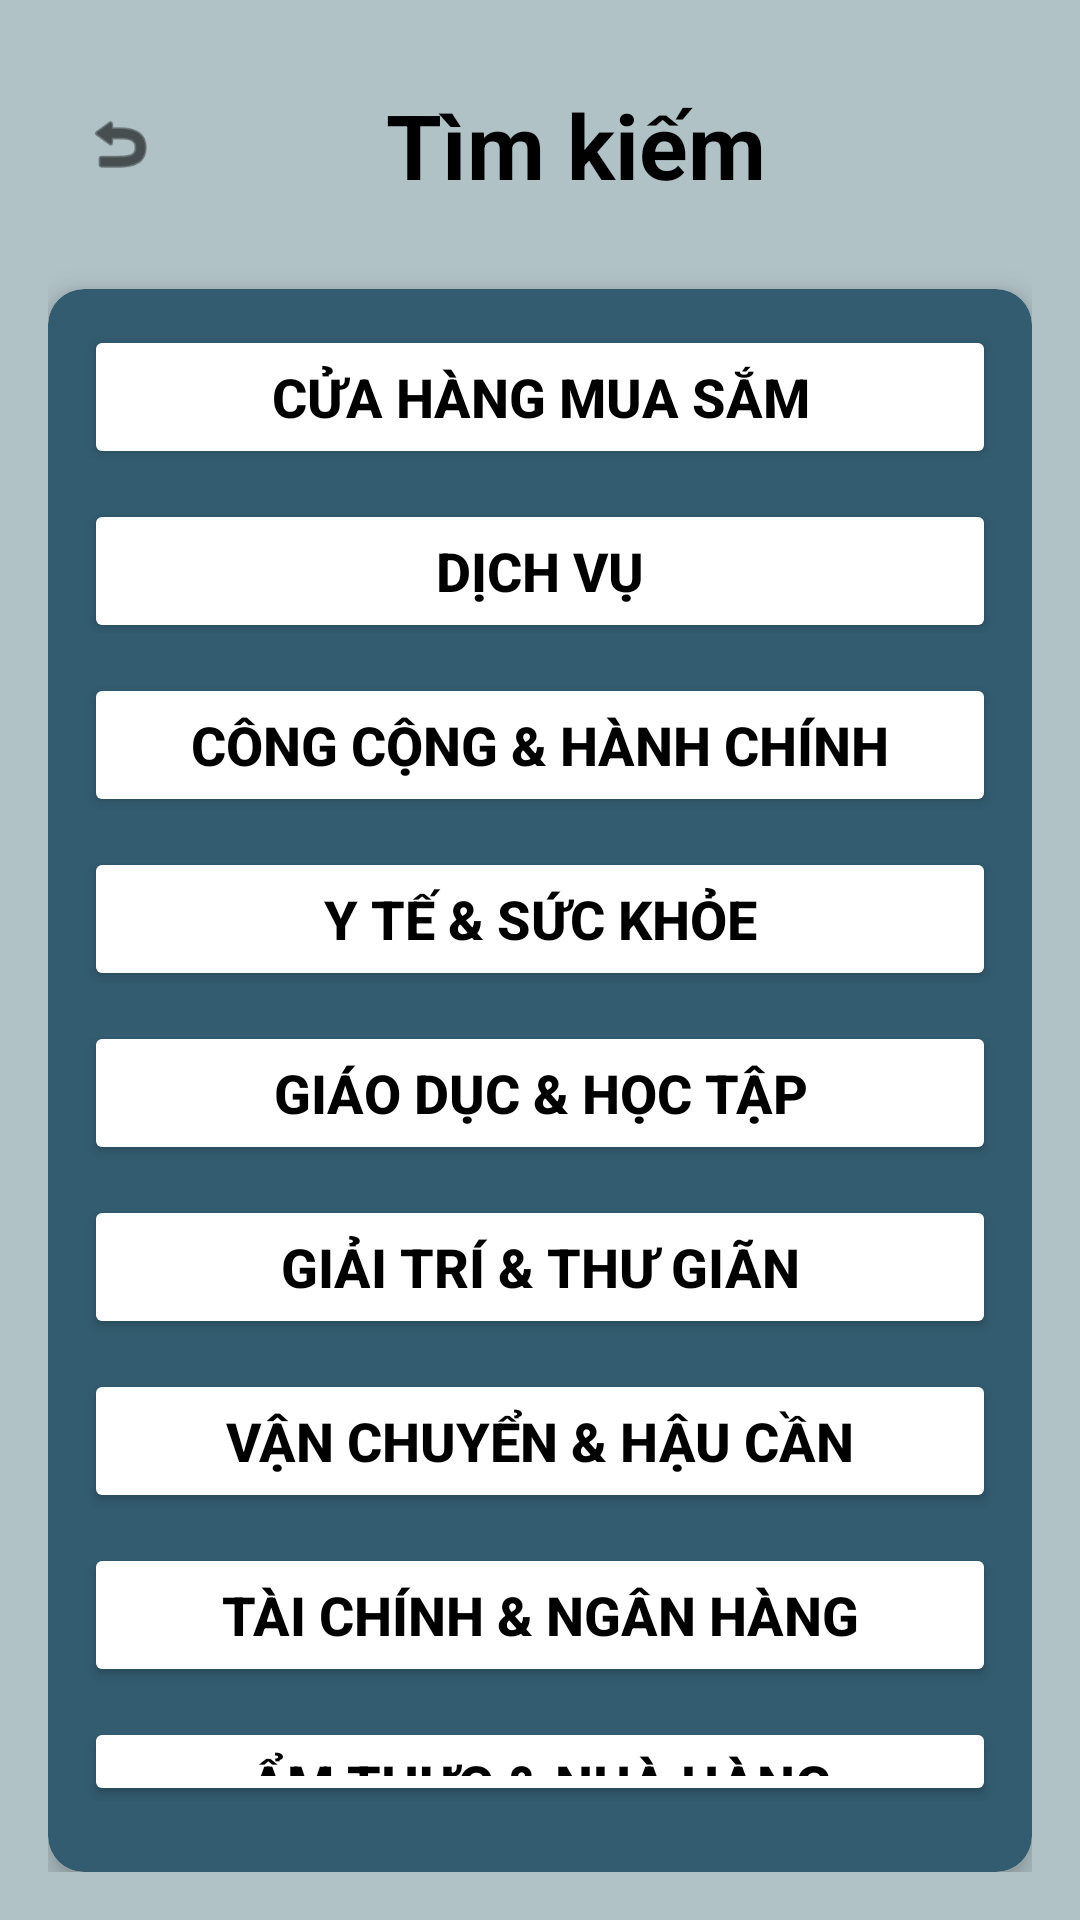

Named icons in this screenshot (1080 x 1920) and their bounding boxes, (x1, y1, x2, y2):
Quay lại: (95, 121, 147, 168)
